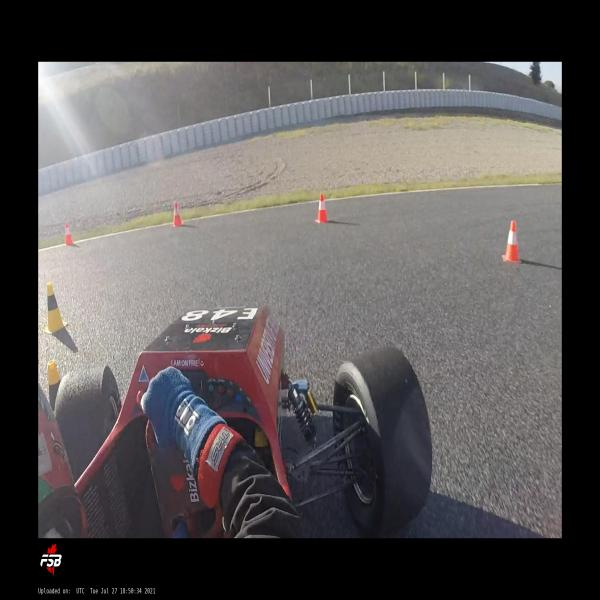orange_cone: (502, 220, 522, 264), (315, 193, 329, 224), (172, 201, 183, 227), (63, 221, 74, 245)
yellow_cone: (44, 280, 68, 335), (47, 360, 62, 412)
